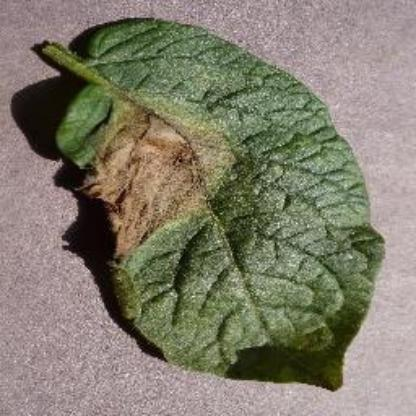Late-Blight: (22, 12, 396, 402)
